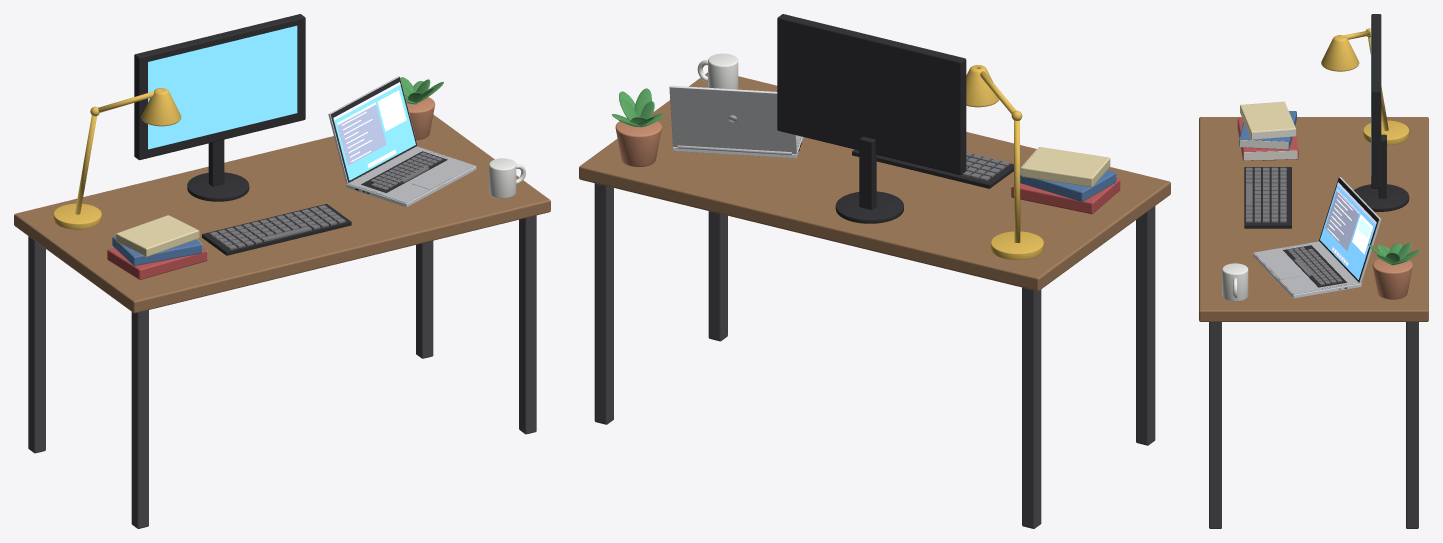
The model's file is desk.glb.
3 views of the same model, side by side, from view 1: azimuth 30°, elevation 25°; view 2: azimuth 150°, elevation 25°; view 3: azimuth 270°, elevation 25° (orthographic). The views are drawn at different scales.
Visible parts, largest first — view 1: DeskTop, MonitorDisplay, MonitorBody, Leg1, Leg0, Leg2, Book2, Leg3, LaptopDeck, LaptopScreen, UI_WinEditor, Keyboard (+11 smaller); view 2: DeskTop, MonitorBody, LaptopLid, Leg2, Leg3, Leg0, Book2, Leg1, Pot, MonitorBase, Book0, MonitorNeck (+6 smaller); view 3: DeskTop, Leg1, Leg3, MonitorBody, LaptopDeck, Book2, Keyboard, Pot, LaptopScreen, UI_WinEditor, MonitorBase, LampShade (+14 smaller).
Part boxes in pixels (x1,y1,x2,y2): DeskTop: (14,114,550,313); MonitorDisplay: (148,25,297,149); MonitorBody: (134,14,305,160); Leg1: (519,215,536,434); Leg0: (131,310,148,528); Leg2: (28,236,45,453); Book2: (116,215,198,256); Leg3: (416,241,433,358); LaptopDeck: (348,146,475,203); LaptopScreen: (333,84,415,180); UI_WinEditor: (337,105,386,165); Keyboard: (202,203,351,255); DeskTop: (579,72,1170,291); MonitorBody: (777,14,966,175); LaptopLid: (669,85,797,154); Leg2: (1022,287,1041,528); Leg3: (594,183,613,424); Leg0: (1136,206,1155,445); Book2: (1021,147,1110,187); Leg1: (708,211,727,341); Pot: (615,121,661,167); MonitorBase: (835,191,903,223); Book0: (1011,178,1120,214); MonitorNeck: (859,136,876,209); DeskTop: (1199,117,1428,321); Leg1: (1209,322,1221,528); Leg3: (1406,322,1418,528); MonitorBody: (1371,14,1381,188); LaptopDeck: (1254,241,1360,294); Book2: (1240,101,1296,139); Keyboard: (1244,167,1291,228); Pot: (1372,258,1412,299); LaptopScreen: (1320,183,1376,279); UI_WinEditor: (1325,191,1359,251); MonitorBase: (1354,184,1409,211); LampShade: (1321,35,1359,71).
Bounding box in the file's own units: 1.4 × 1.25 × 0.7.
